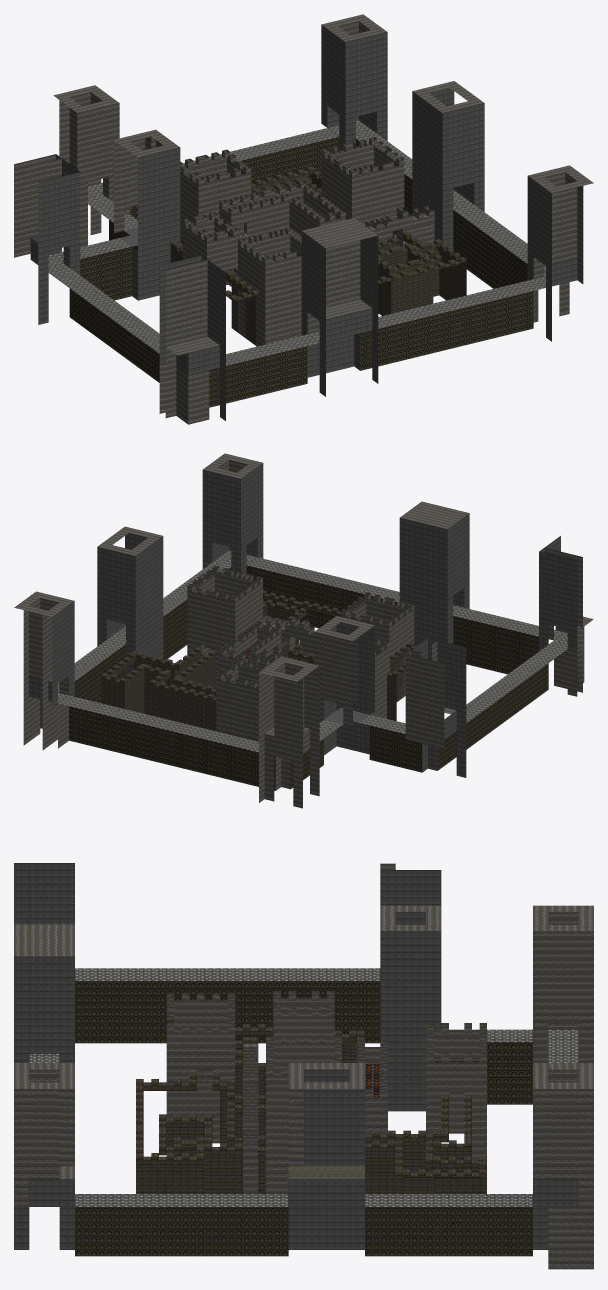
The model's file is Map.obj.
3 views of the same model, one above another, from view 1: azimuth 30°, elevation 25°; view 2: azimuth 150°, elevation 25°; view 3: azimuth 270°, elevation 25° (orthographic). The views are drawn at different scales.
Parts seen in each view (by area): view 1: MAP; view 2: MAP; view 3: MAP.
Part boxes in pixels (x1,y1,x2,y2): MAP: [14, 14, 593, 424]; MAP: [14, 453, 593, 808]; MAP: [14, 863, 593, 1269].
Bounding box in the file's own units: 78 × 27.25 × 76.
10 materials, 10 textured.
